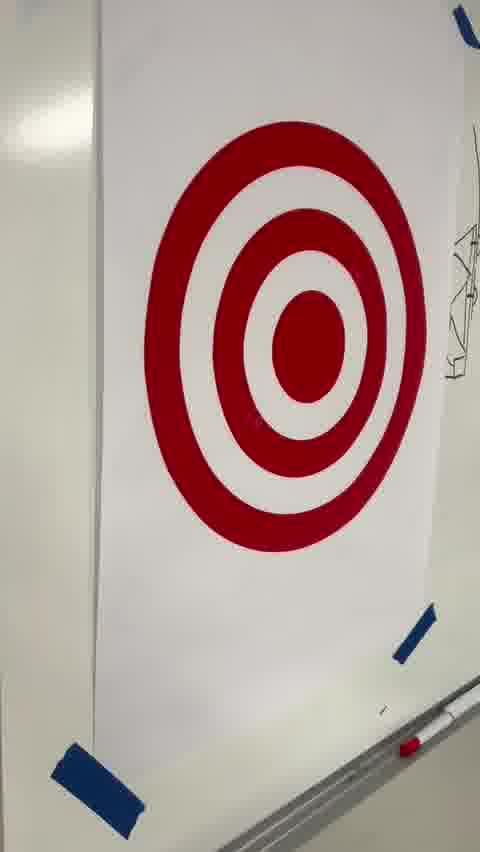target_red: (144, 119, 427, 554)
